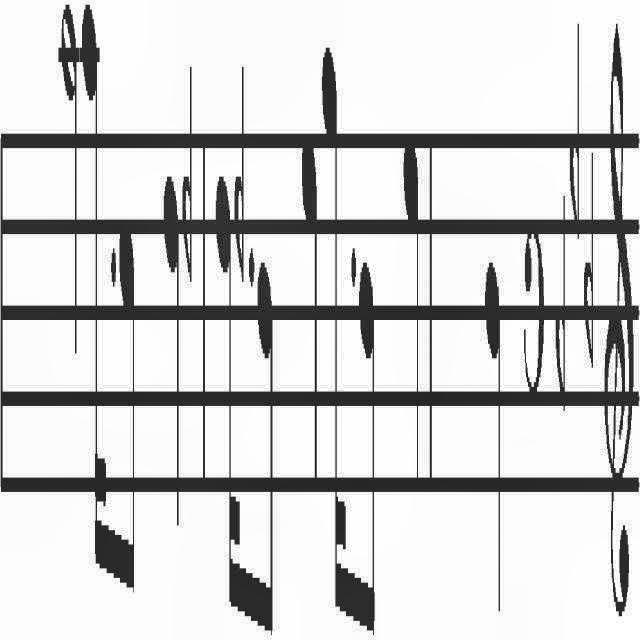Bass-clef: (603, 8, 639, 640)
Bemol: (232, 24, 250, 288), (180, 48, 196, 288), (583, 122, 597, 394), (568, 18, 584, 250), (554, 156, 566, 434)
Eighth-note: (254, 226, 280, 640), (356, 256, 379, 640), (119, 202, 138, 638)
Half-note: (57, 1, 81, 412)
Quarter-note: (398, 105, 424, 539), (482, 232, 504, 640), (300, 125, 320, 531), (162, 172, 180, 568)
Sixteenth-note: (80, 0, 108, 640), (322, 14, 348, 640), (214, 167, 234, 588)
